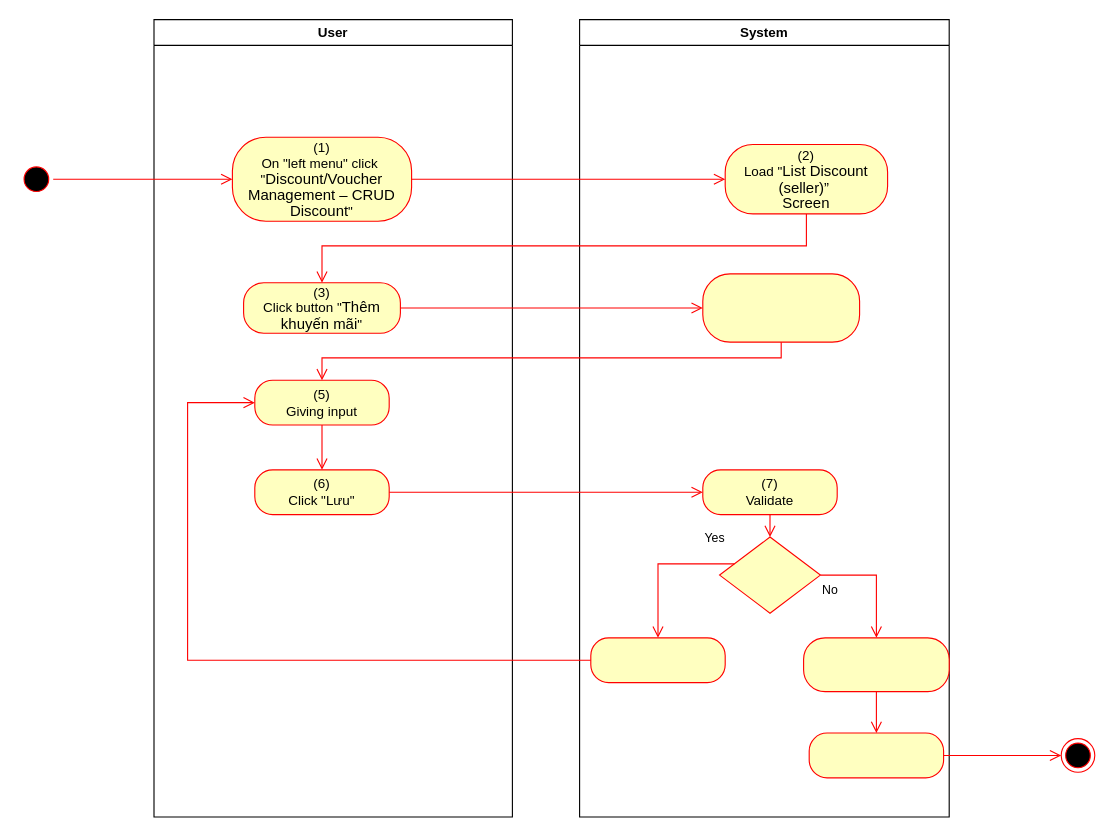
This 1114x837 diagram has some shape labels left out. Each missing label, with the centre of its shape:
(4) Load " CRUD Discount ": pixel 781 307
(7.1) Show MSG: pixel 657 660
(7.2) Push new Discount to DB: pixel 875 664
(8) Update UI: pixel 876 755
